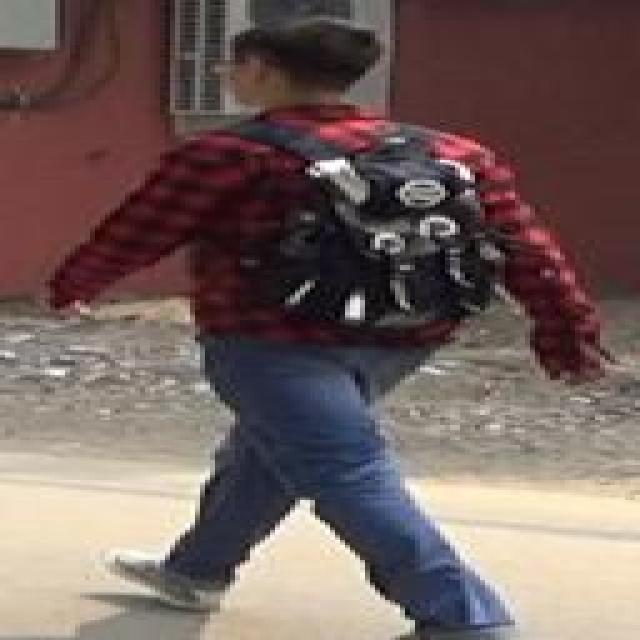adult: (32, 14, 614, 638)
